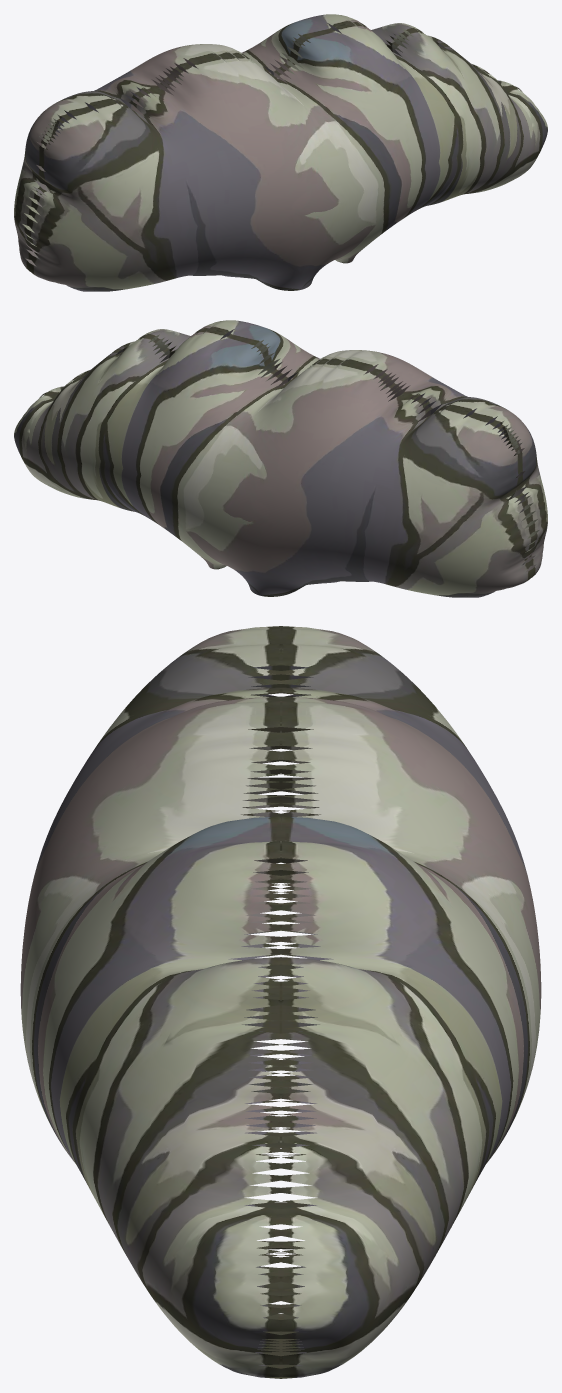
Rendered from crag_wall.glb.
3 views of the same model, one above another, from view 1: azimuth 30°, elevation 25°; view 2: azimuth 150°, elevation 25°; view 3: azimuth 270°, elevation 25° (orthographic). The views are drawn at different scales.
Visible parts, largest first — view 1: crag_wall; view 2: crag_wall; view 3: crag_wall.
Boxes of the visible parts, x1=… form: crag_wall: x1=14, y1=14, x2=547, y2=291; crag_wall: x1=14, y1=320, x2=547, y2=597; crag_wall: x1=20, y1=626, x2=541, y2=1378.
Size of the model in its own units: 0.9888 by 0.3852 by 0.4344.
Materials: 1 (1 with a texture image).
